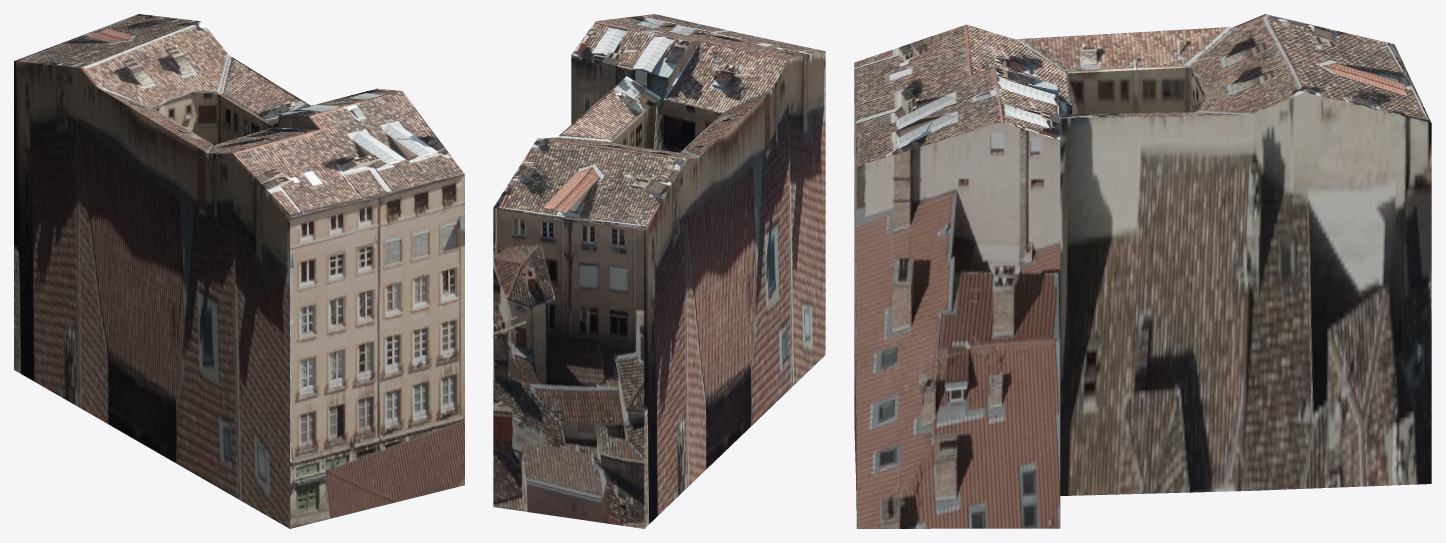
3 views of the same model, side by side, from view 1: azimuth 30°, elevation 25°; view 2: azimuth 150°, elevation 25°; view 3: azimuth 270°, elevation 25° (orthographic). The views are drawn at different scales.
Parts seen in each view (by area): view 1: Z_UP; view 2: Z_UP; view 3: Z_UP.
Boxes of the visible parts, bbox=[...] form: Z_UP: bbox=[14, 14, 464, 528]; Z_UP: bbox=[493, 14, 825, 528]; Z_UP: bbox=[854, 14, 1431, 528].
Bounding box in the file's own units: 18.39 × 27.91 × 35.88.
2 materials, 1 textured.
